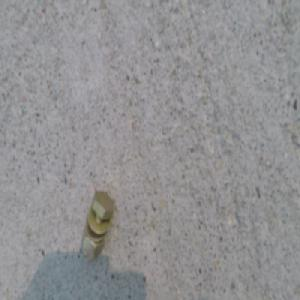BoltNutSet: (83, 187, 116, 259)
